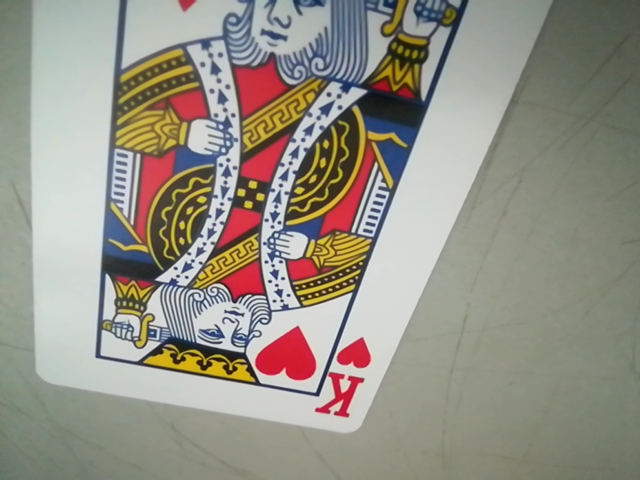hx k: (313, 337, 384, 425)
